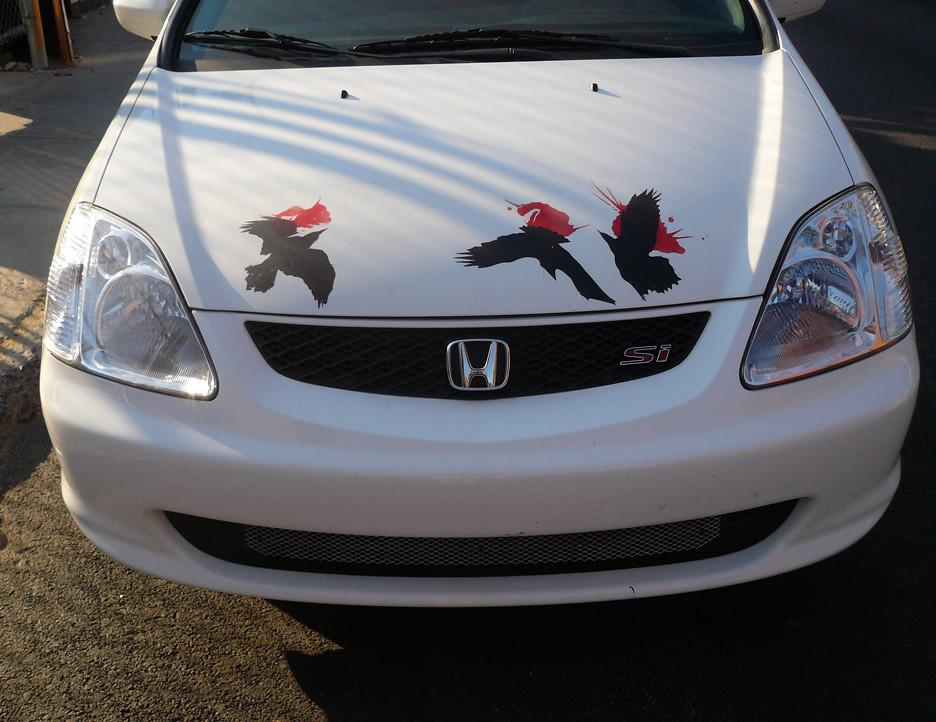car: (39, 1, 921, 610)
